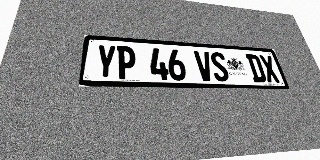4: (149, 48, 169, 80)
6: (166, 49, 187, 81)
D: (245, 54, 267, 82)
P: (116, 46, 136, 80)
S: (209, 52, 230, 82)
V: (193, 51, 215, 81)
X: (258, 55, 281, 83)
Y: (95, 44, 116, 79)
